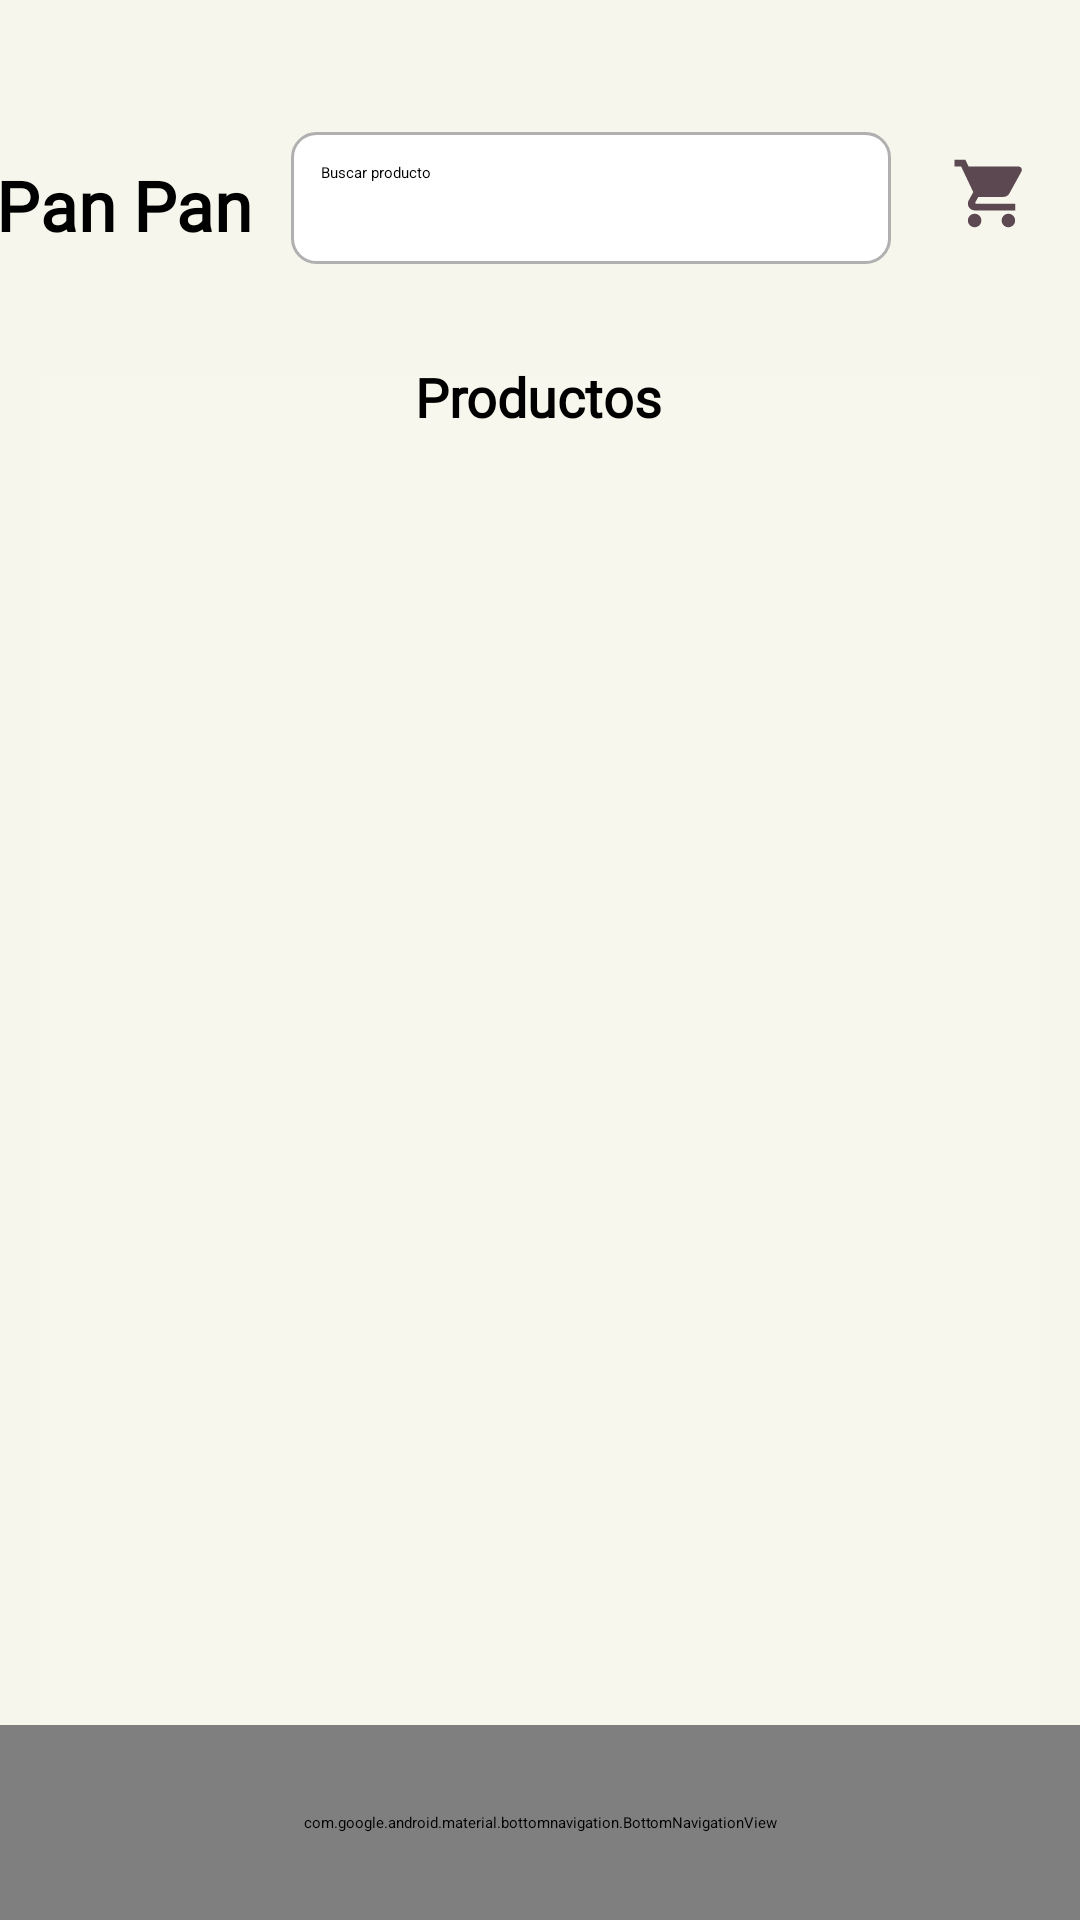

Point at icon controls on the screen. Image size 1080px×1920px, points as (x,y).
Carrito de compras: (988,193)
